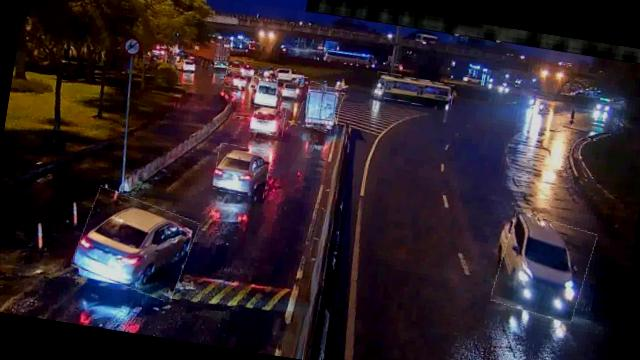Bus: (372, 72, 453, 109), (297, 81, 344, 133), (248, 76, 284, 109), (278, 72, 308, 100)
Car: (73, 188, 198, 300), (491, 212, 595, 322), (212, 144, 272, 198), (250, 102, 286, 136), (224, 69, 252, 91)
Truck: (299, 83, 342, 131)
